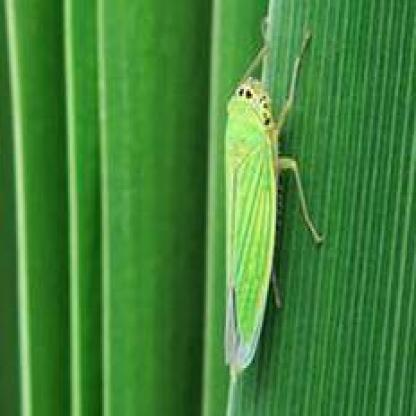Green-Leafhopper: (219, 30, 321, 378)
